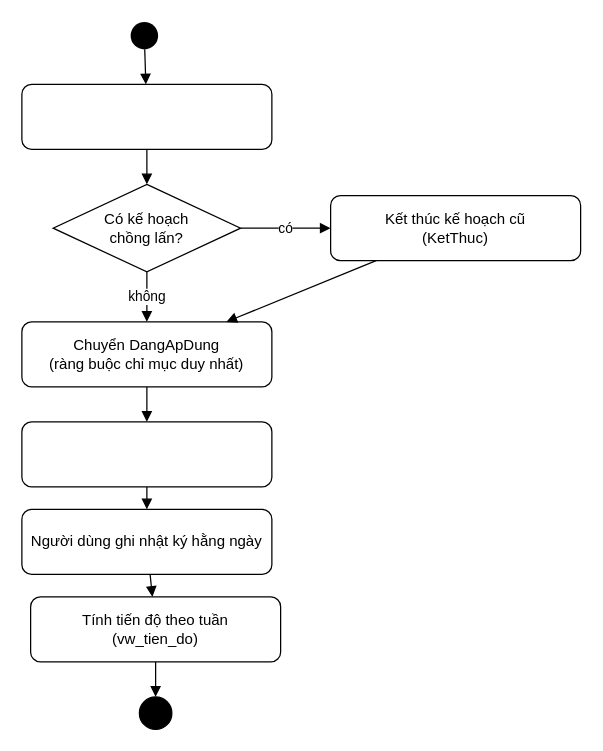
The diagram is 603 pixels wide and 751 high, and some of its shapes have lost their labels. The centre of each missing label's shape, as x and y in pixels:
"Chọn kế hoạch DaDuyet và ngày bắt đầu" belongs at point 146,116.
"Ghi nhật ký hiệu chỉnh" belongs at point 146,454.
